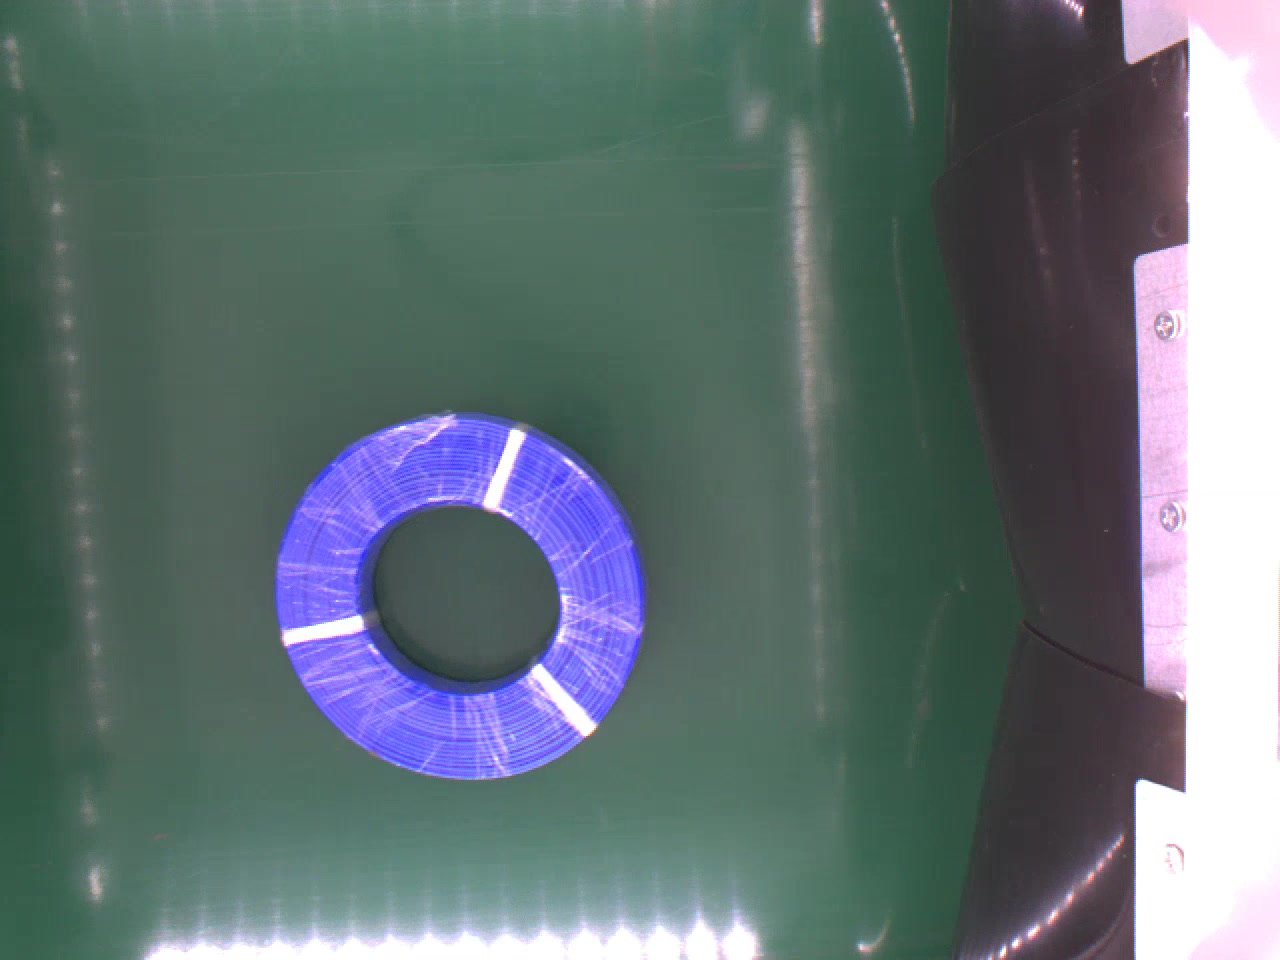blue: (273, 413, 648, 778)
